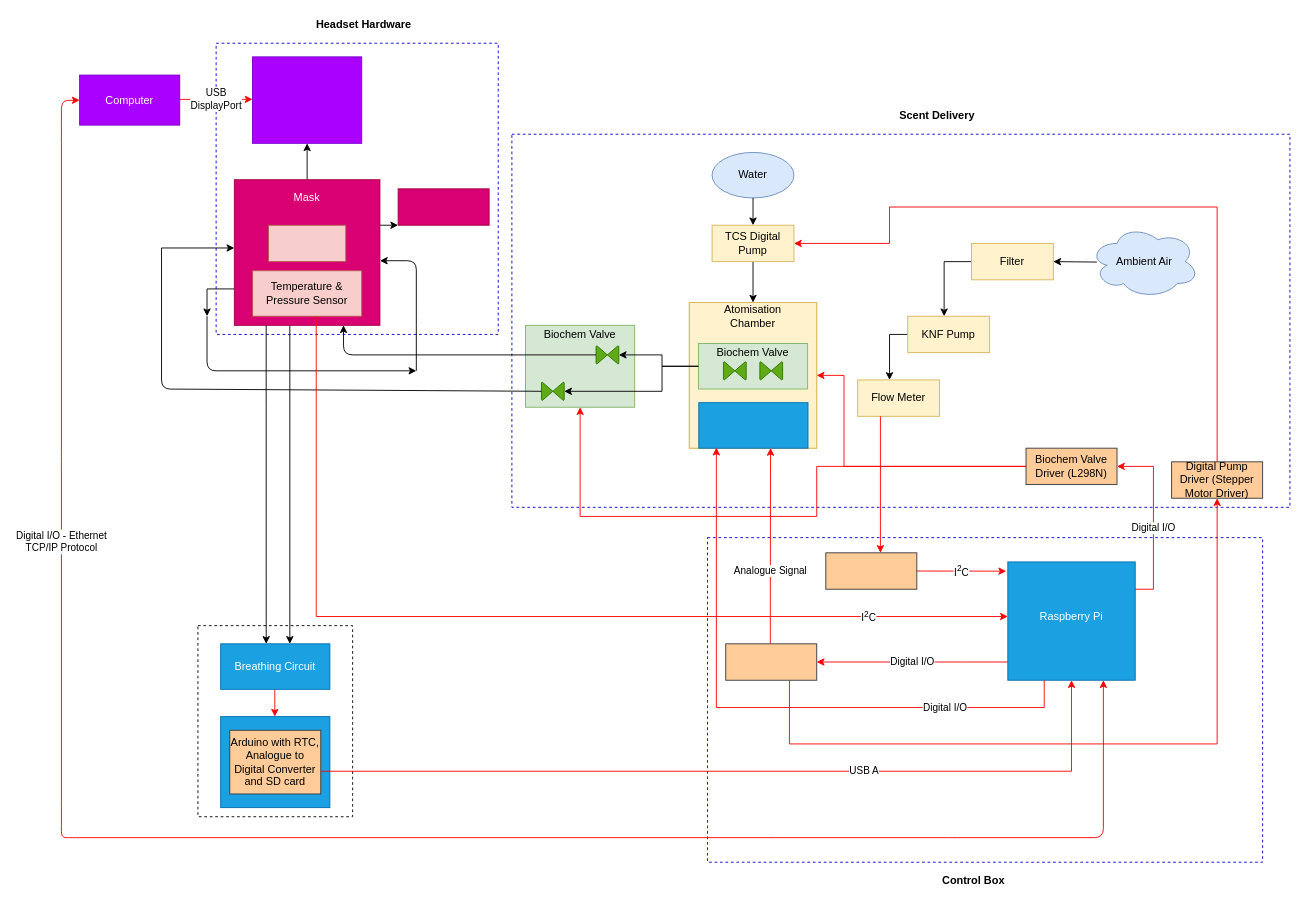
Some shapes in this 1306 by 914 pixel diagram are drawn without their labels. The centre of each missing label's shape, as x and y in pixels:
Analogue to Digital Converter: pixel 871 570
Atomiser Circuit: pixel 753 425
Digital to Analogue Converter: pixel 771 661
Olfactory Organ: pixel 443 206
Vent: pixel 307 243
VR Headset: pixel 307 99
